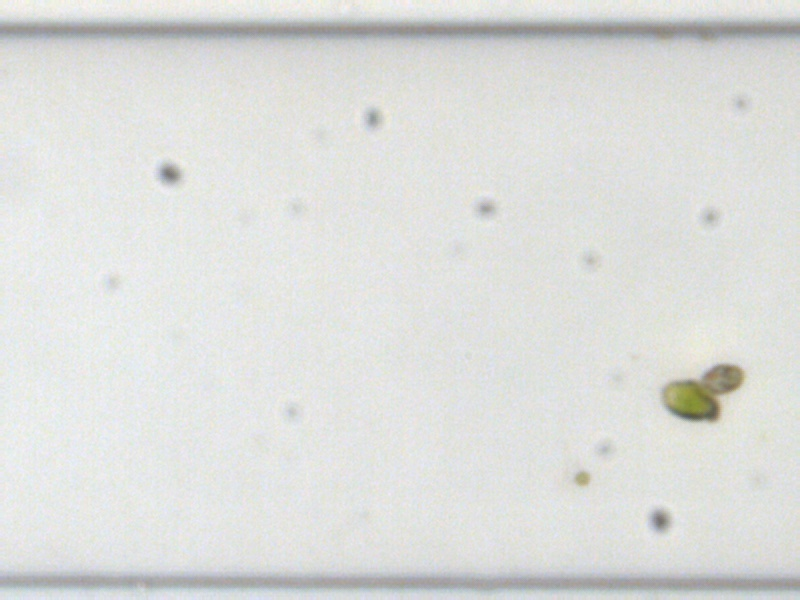Chlorella: (572, 467, 592, 487)
Effrenium: (701, 362, 744, 390)
Platymonas: (657, 377, 721, 424)
